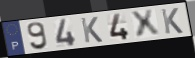4: (54, 18, 77, 48), (108, 12, 130, 41)
9: (27, 21, 49, 51)
K: (159, 7, 185, 35), (79, 16, 104, 44)
X: (129, 8, 162, 40)
